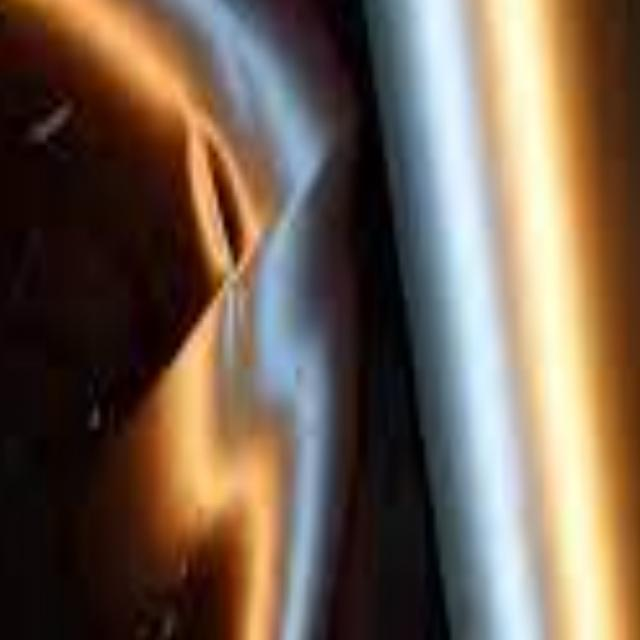dents: (184, 119, 278, 301)
